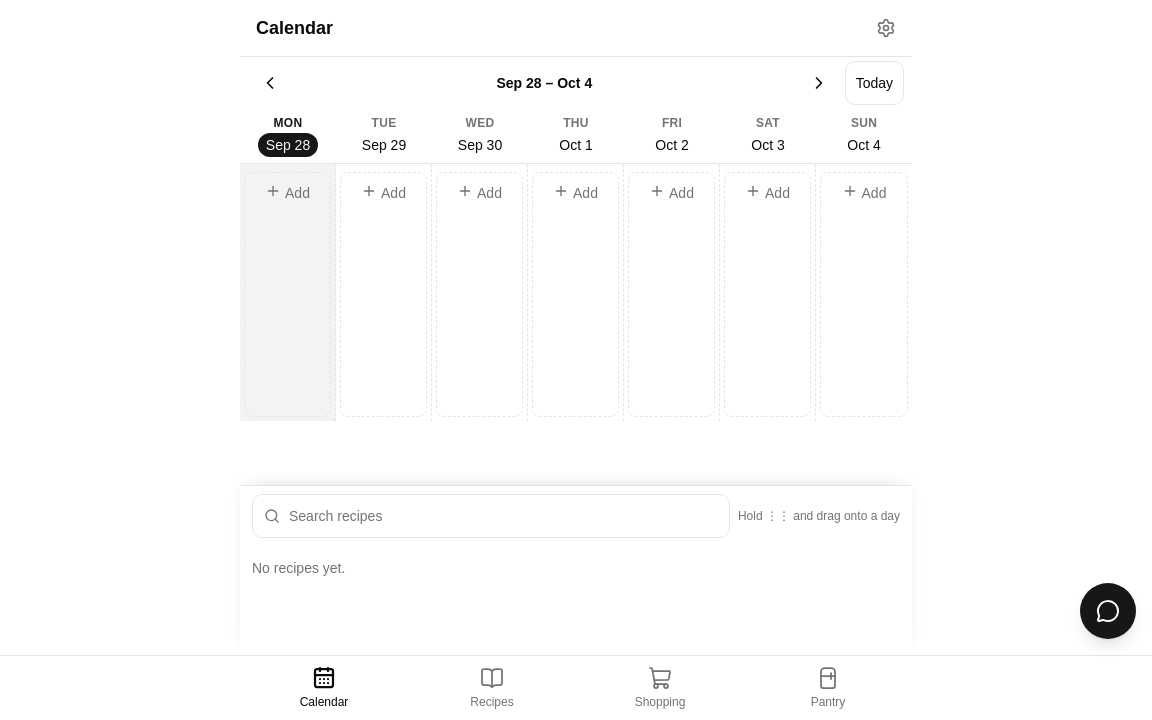
Test: chat bubble › opens the panel as a dialog, closes with Escape and returns focus
Click the button named "Open chat" at (1108, 611), box x1=1080 y1=583 x2=1136 y2=639
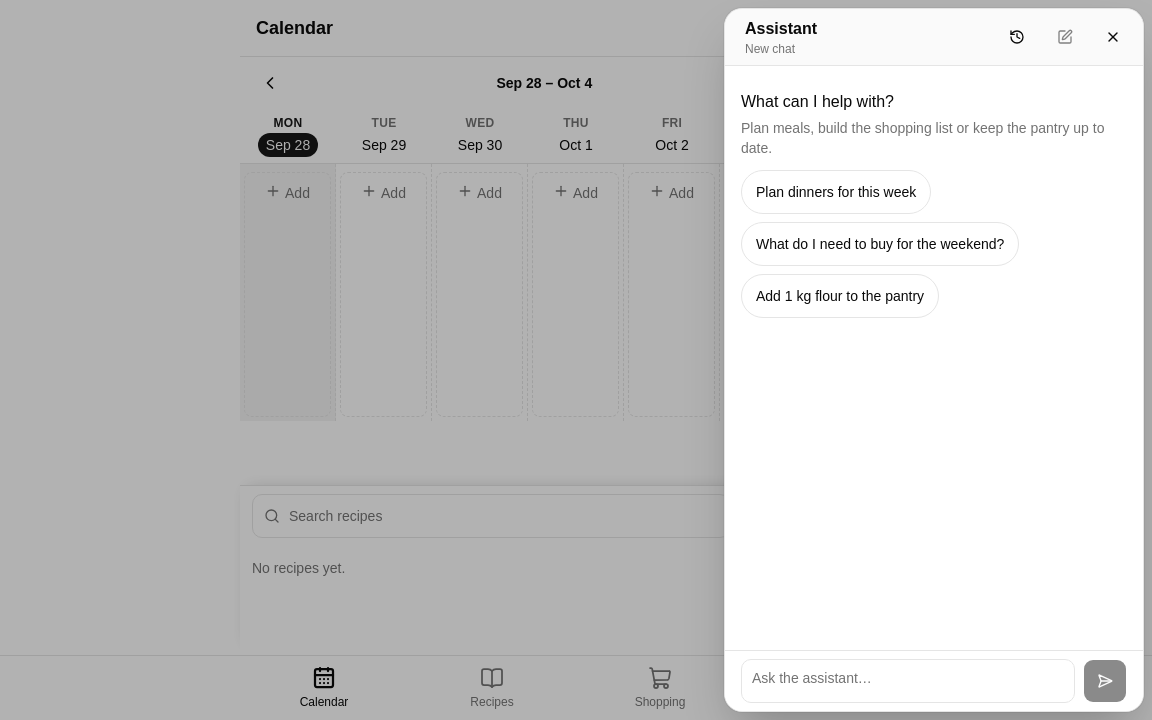
Now the element named "New chat" is shown, box x1=741 y1=82 x2=1127 y2=318
Now the button named "Close chat" is shown, box x1=1091 y1=15 x2=1135 y2=59
Press Escape
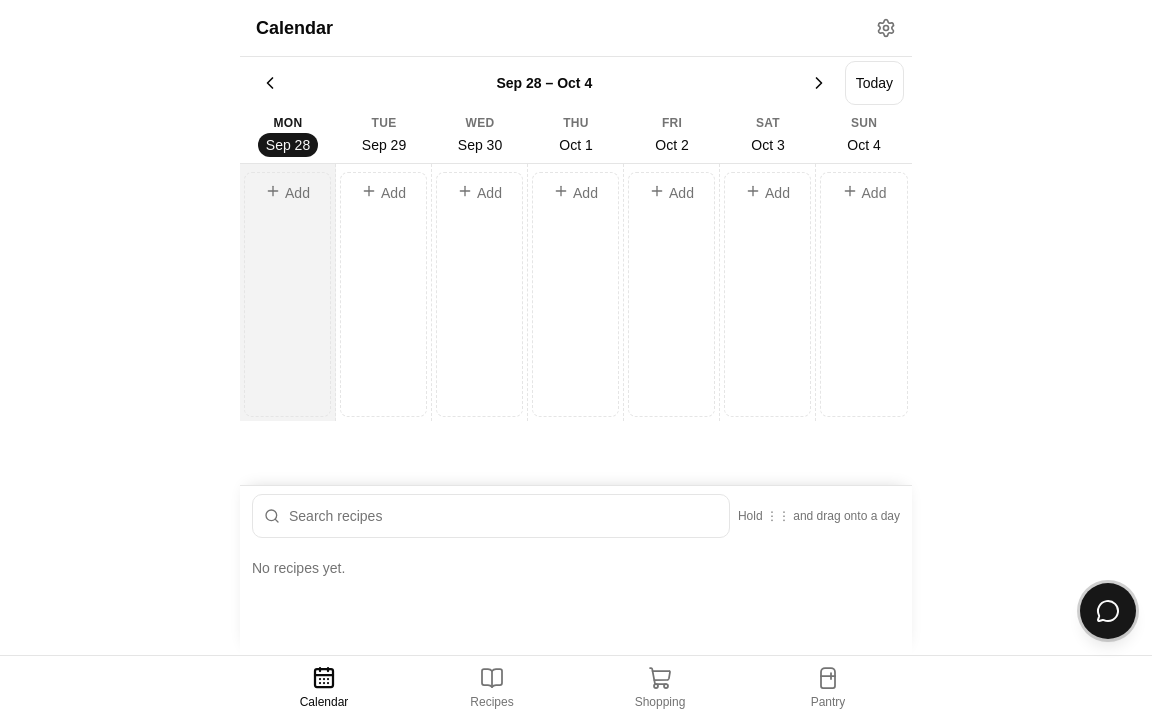
Now the dialog is gone
